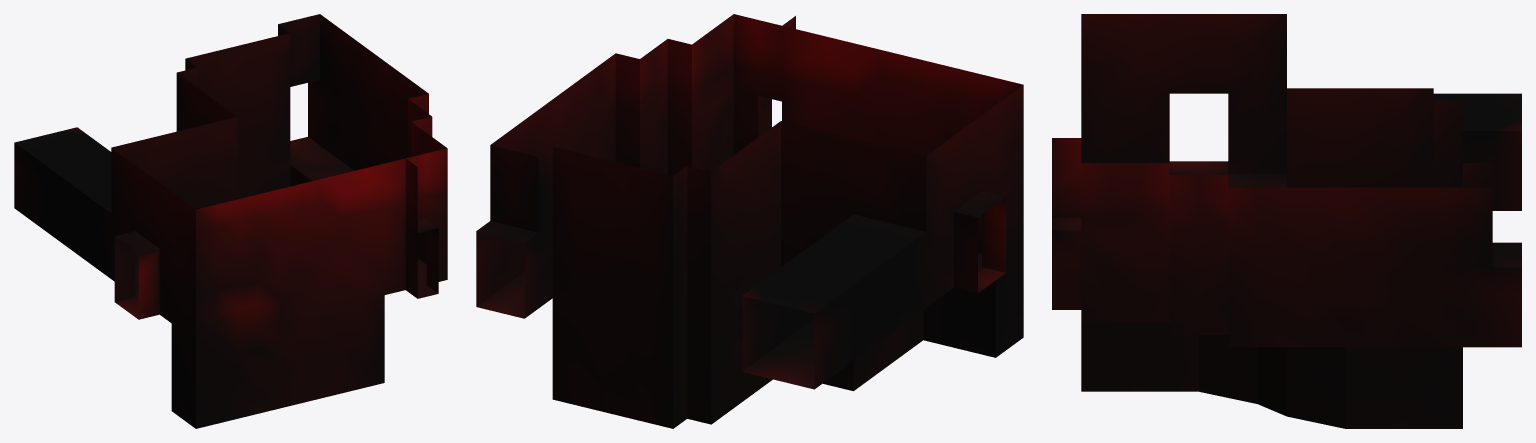
Rendered from castle_cliff_1.obj.
3 views of the same model, side by side, from view 1: azimuth 30°, elevation 25°; view 2: azimuth 150°, elevation 25°; view 3: azimuth 270°, elevation 25° (orthographic). The views are drawn at different scales.
Visible parts, largest first — view 1: Plane.1581; view 2: Plane.1581; view 3: Plane.1581.
Boxes of the visible parts, box(x1,y1,x2,y2) form: Plane.1581: box(14, 14, 447, 428); Plane.1581: box(476, 14, 1023, 428); Plane.1581: box(1052, 14, 1521, 428).
Bounding box in the file's own units: 15 × 10 × 16.
